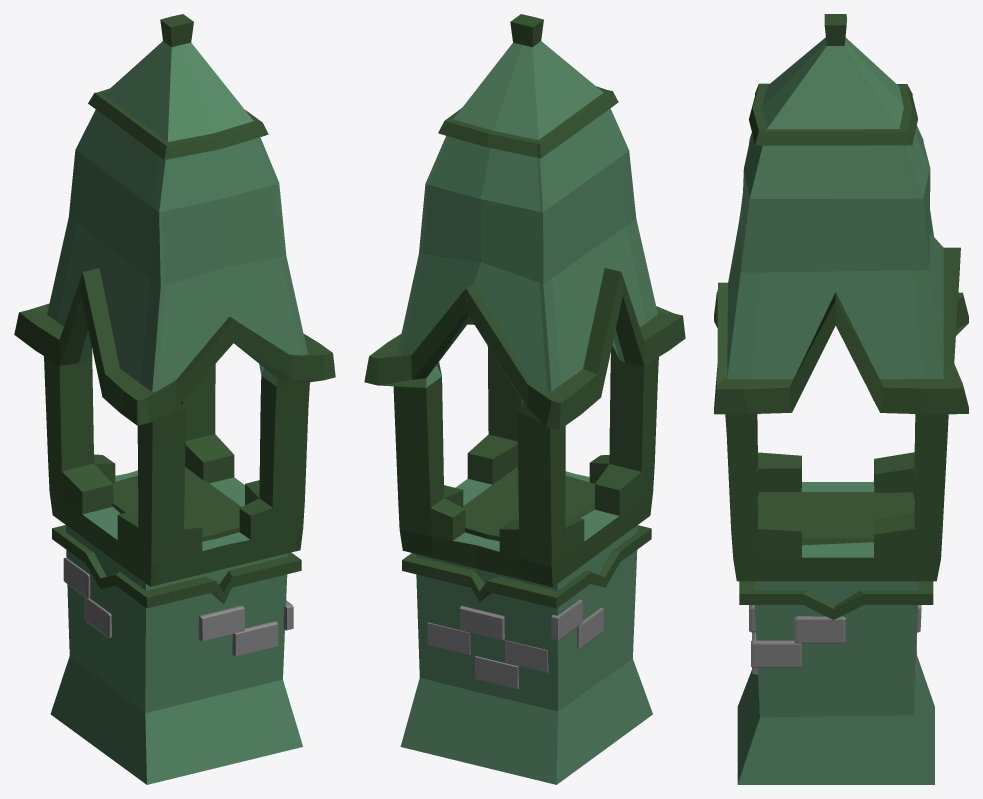
The model's file is Swamp_Structure_Tower.fbx.
3 renders of one model, left to right at view 1: azimuth 30°, elevation 25°; view 2: azimuth 150°, elevation 25°; view 3: azimuth 270°, elevation 25°, orthographic. The views are drawn at different scales.
Parts seen in each view (by area): view 1: Swamp Structure Tower; view 2: Swamp Structure Tower; view 3: Swamp Structure Tower.
Part boxes in pixels (x1=…): Swamp Structure Tower: x1=14, y1=14, x2=335, y2=784; Swamp Structure Tower: x1=364, y1=14, x2=685, y2=784; Swamp Structure Tower: x1=714, y1=14, x2=968, y2=784.
Size of the model in its own units: 527 by 1804 by 574.
